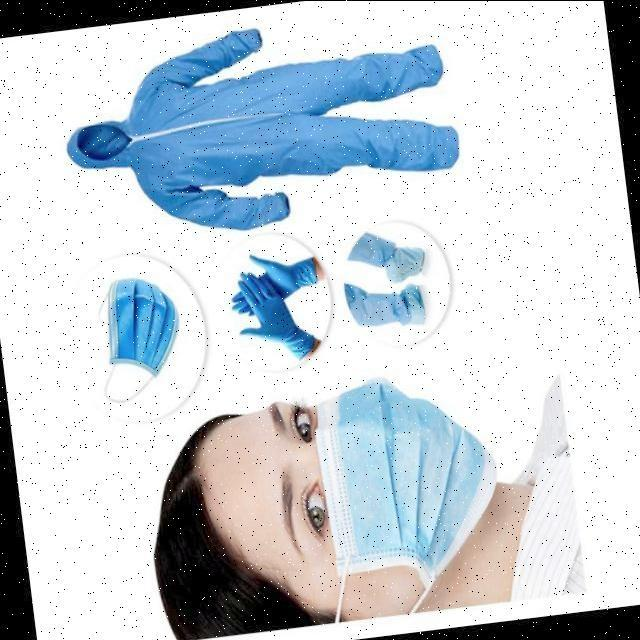mask: (324, 383, 492, 621)
no_gloves: (126, 433, 268, 640)
